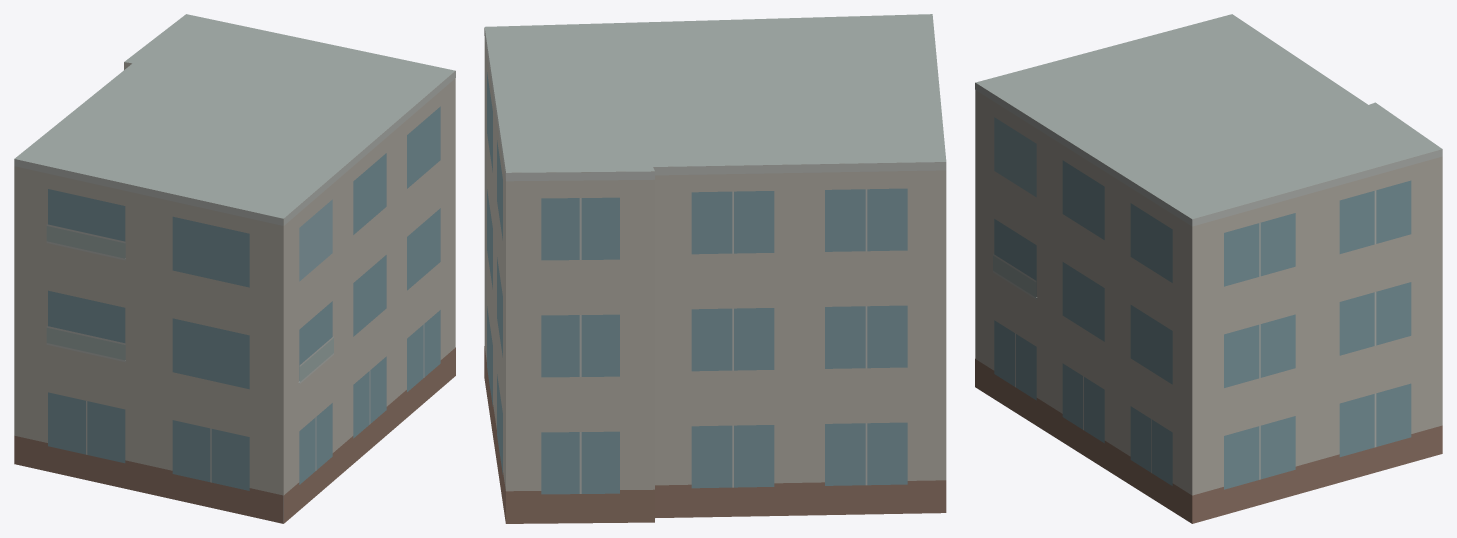
File: survey-upis-32987796.glb
The picture shows the model from 3 angles, left to right: view 1: azimuth 30°, elevation 25°; view 2: azimuth 150°, elevation 25°; view 3: azimuth 270°, elevation 25°; orthographic projection. The views are drawn at different scales.
Visible parts, largest first — view 1: survey-upis-32987796.tmp; view 2: survey-upis-32987796.tmp; view 3: survey-upis-32987796.tmp.
Part boxes in pixels (x1,y1,x2,y2): survey-upis-32987796.tmp: (14, 14, 455, 523); survey-upis-32987796.tmp: (484, 14, 946, 523); survey-upis-32987796.tmp: (975, 14, 1442, 523).
Bounding box in the file's own units: 14.75 × 10.2 × 14.2.
